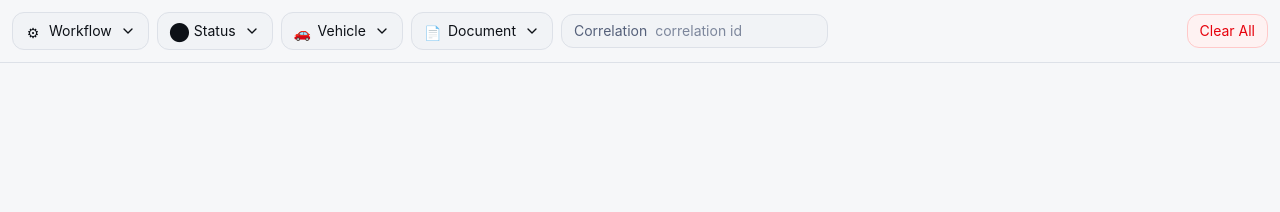
Test case: Workflow Monitor filter dropdowns › keeps only one menu open at a time so menus cannot overlap
Click the button with aria-label "filter by workflow" at (80, 31), box [12, 12, 149, 50]
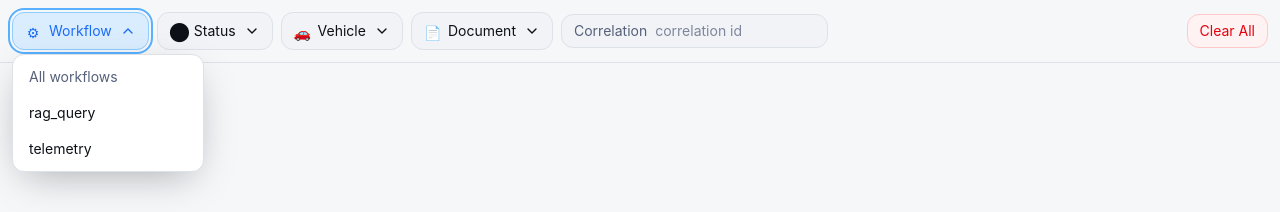
expect the button "All workflows" is shown: met, box [17, 59, 199, 95]
Click the button with aria-label "filter by status" at (215, 31), box [157, 12, 273, 50]
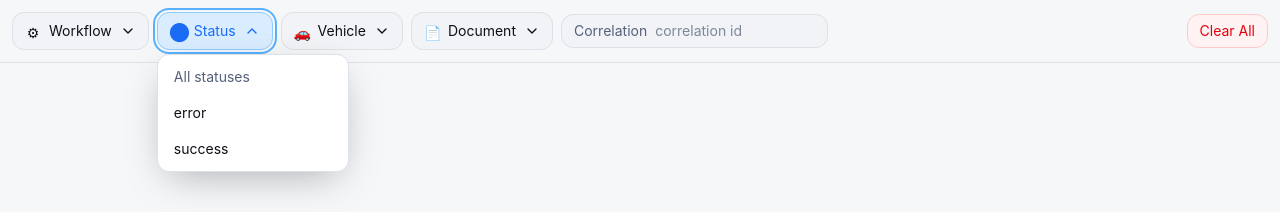
expect the button "All workflows" is gone: met
expect the button "All statuses" is shown: met, box [162, 59, 344, 95]
